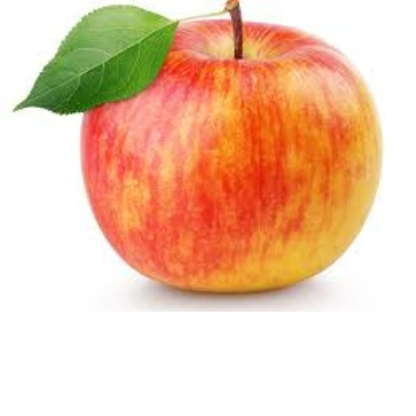tao: (82, 6, 380, 293)
